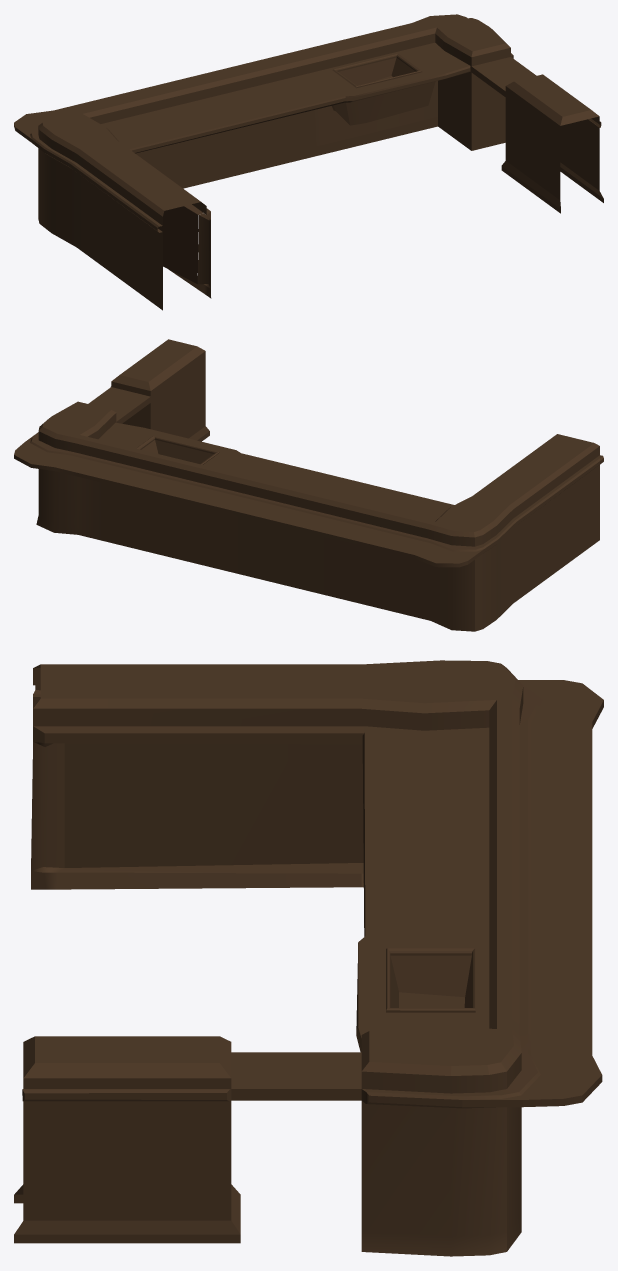
File: Bar_Finished.fbx
3 renders of one model, top to bottom at view 1: azimuth 30°, elevation 25°; view 2: azimuth 150°, elevation 25°; view 3: azimuth 270°, elevation 25°, orthographic. The views are drawn at different scales.
Visible parts, largest first — view 1: Bar; view 2: Bar; view 3: Bar.
Part boxes in pixels (x1,y1,x2,y2): Bar: [14, 14, 603, 310]; Bar: [14, 339, 603, 631]; Bar: [14, 660, 603, 1256].
Size of the model in its own units: 535 by 110 by 317.
